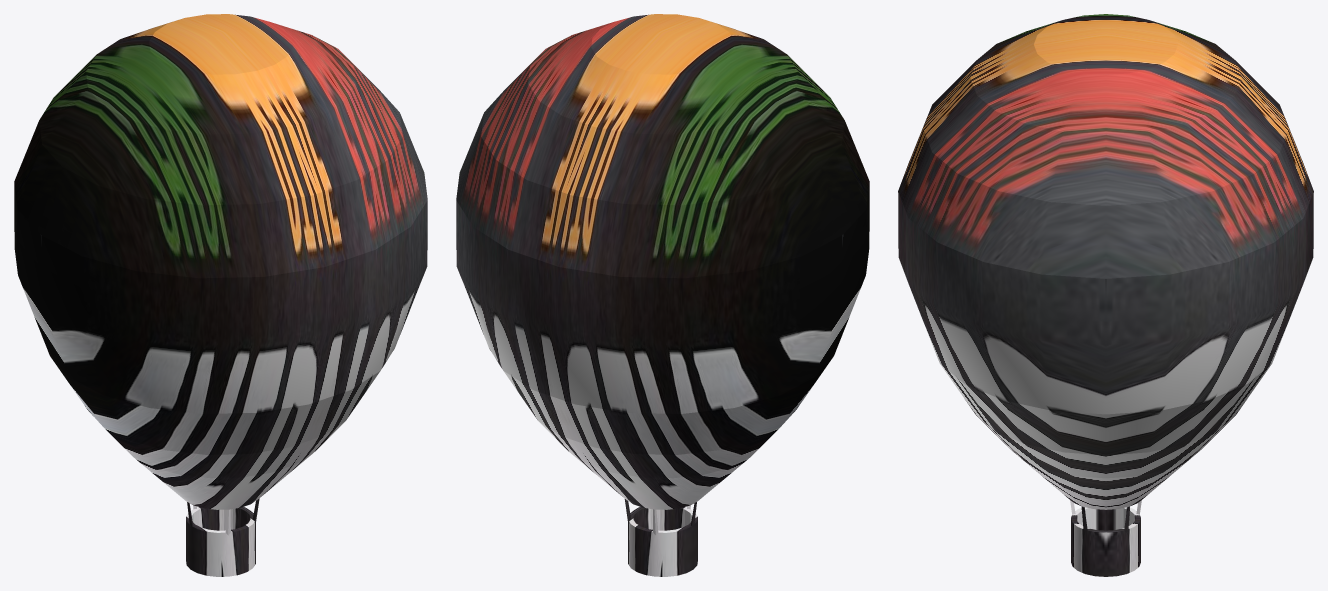
File: balloon-stamp.glb
3 views of the same model, side by side, from view 1: azimuth 30°, elevation 25°; view 2: azimuth 150°, elevation 25°; view 3: azimuth 270°, elevation 25° (orthographic).
Visible parts, largest first — view 1: pSphere16; view 2: pSphere16; view 3: pSphere16.
Part boxes in pixels (x1,y1,x2,y2): pSphere16: (14,14,427,576); pSphere16: (456,14,869,576); pSphere16: (898,14,1313,576).
Size of the model in its own units: 6.96 by 9.77 by 6.96.
1 material, 1 textured.
